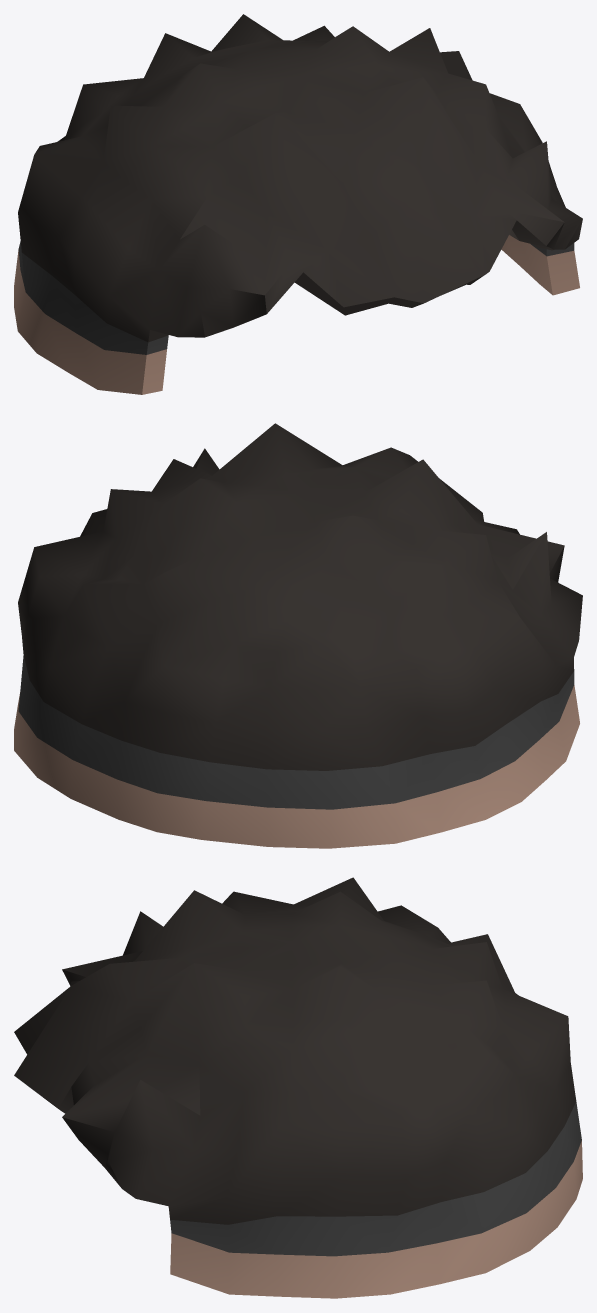
The picture shows the model from 3 angles, top to bottom: view 1: azimuth 30°, elevation 25°; view 2: azimuth 150°, elevation 25°; view 3: azimuth 270°, elevation 25°; orthographic projection.
Parts seen in each view (by area): view 1: short_curly_no_side; view 2: short_curly_no_side; view 3: short_curly_no_side.
Part boxes in pixels (x1=…): short_curly_no_side: x1=14, y1=14, x2=582, y2=394; short_curly_no_side: x1=14, y1=423, x2=582, y2=848; short_curly_no_side: x1=14, y1=877, x2=582, y2=1298.
Bounding box in the file's own units: 1.95 × 0.9791 × 1.96.
